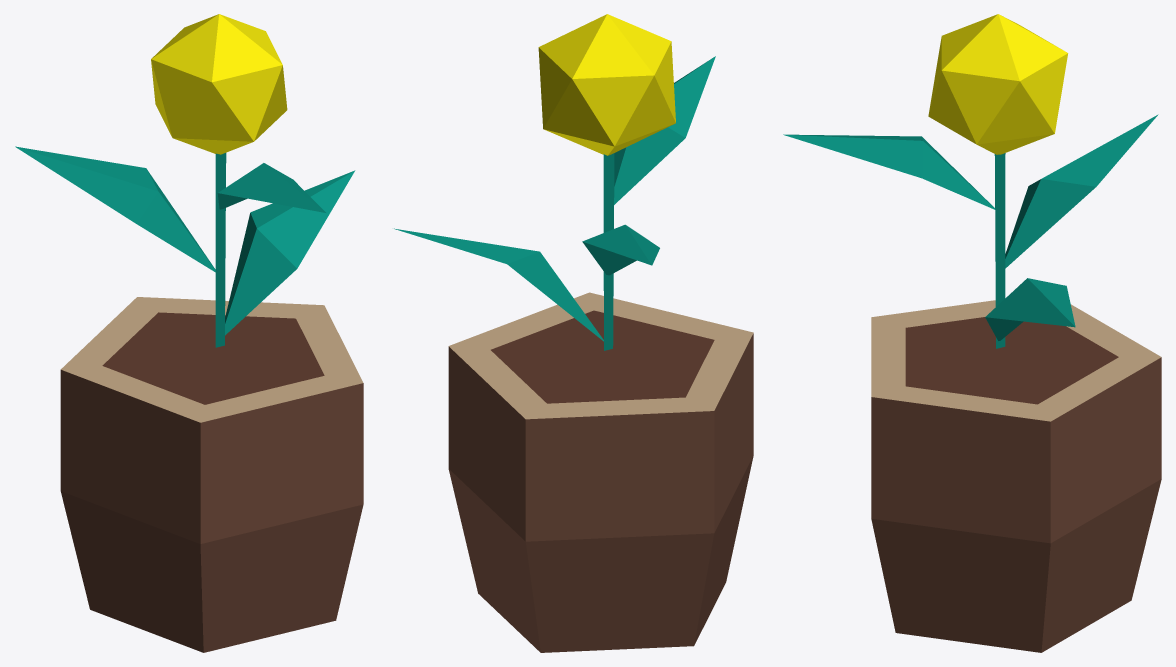
Rendered from TB_Prop_Flowerpot_E.FBX.
3 views of the same model, side by side, from view 1: azimuth 30°, elevation 25°; view 2: azimuth 150°, elevation 25°; view 3: azimuth 270°, elevation 25° (orthographic).
Parts seen in each view (by area): view 1: TB_Prop_Flowerpot_E; view 2: TB_Prop_Flowerpot_E; view 3: TB_Prop_Flowerpot_E.
Boxes of the visible parts, x1,y1,x2,y2 form: TB_Prop_Flowerpot_E: (15, 14, 363, 652); TB_Prop_Flowerpot_E: (394, 14, 753, 652); TB_Prop_Flowerpot_E: (783, 14, 1161, 652).
Bounding box in the file's own units: 0.5103 × 0.9287 × 0.5444.
